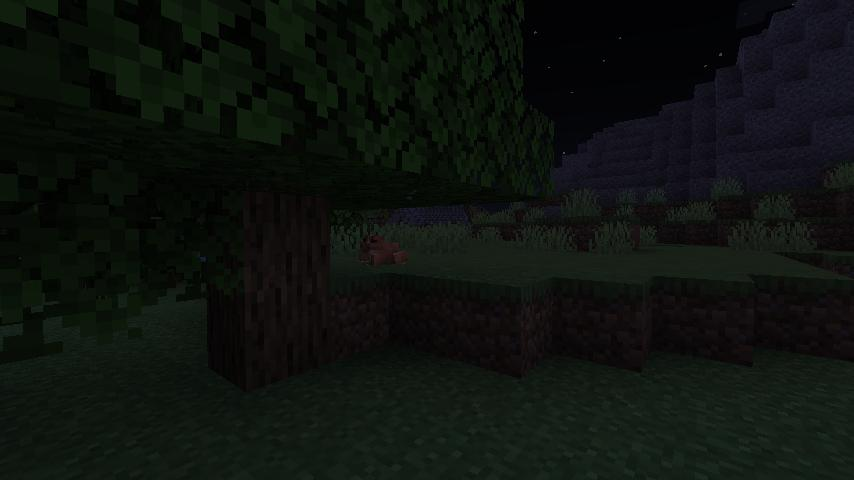frog: (354, 229, 409, 270)
